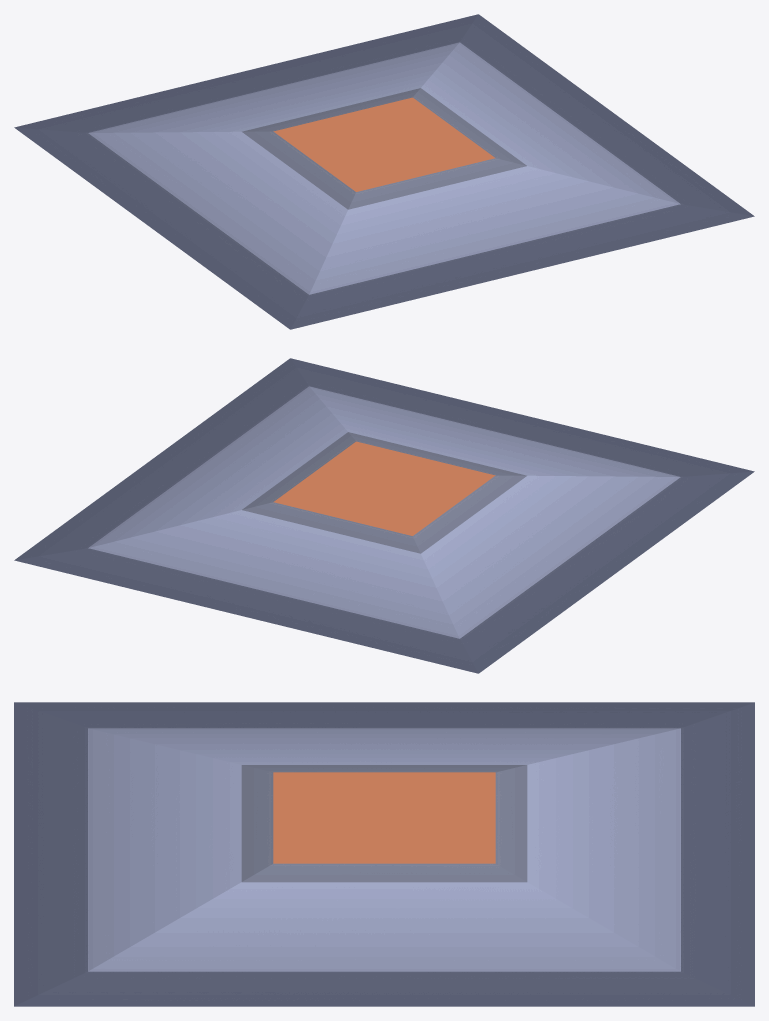
The model's file is obstacle-box_lev2.glb.
The picture shows the model from 3 angles, top to bottom: view 1: azimuth 30°, elevation 25°; view 2: azimuth 150°, elevation 25°; view 3: azimuth 270°, elevation 25°; orthographic projection. The views are drawn at different scales.
Parts seen in each view (by area): view 1: obstacle-box_lev2; view 2: obstacle-box_lev2; view 3: obstacle-box_lev2.
Boxes of the visible parts, x1=… form: obstacle-box_lev2: x1=14, y1=14, x2=754, y2=329; obstacle-box_lev2: x1=14, y1=358, x2=754, y2=673; obstacle-box_lev2: x1=14, y1=702, x2=754, y2=1006.
Bounding box in the file's own units: 3.58 × 0.2 × 3.69.
1 material, 1 textured.
